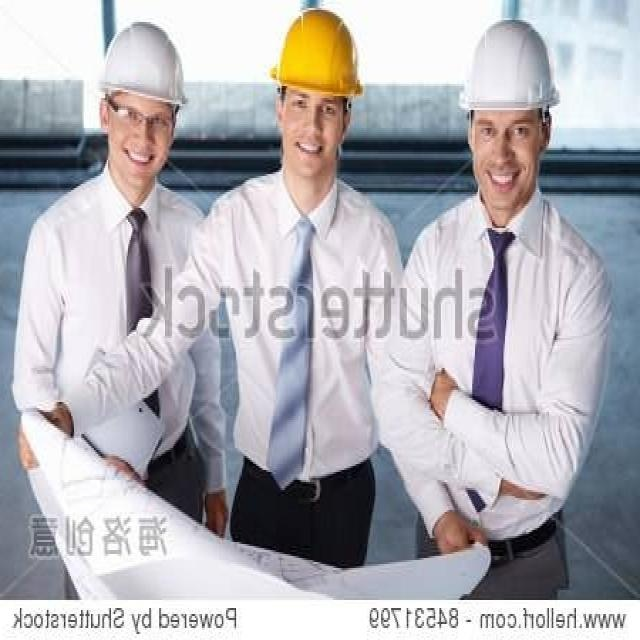Con_Casco: (464, 19, 556, 194), (275, 9, 362, 171), (102, 23, 186, 168)
